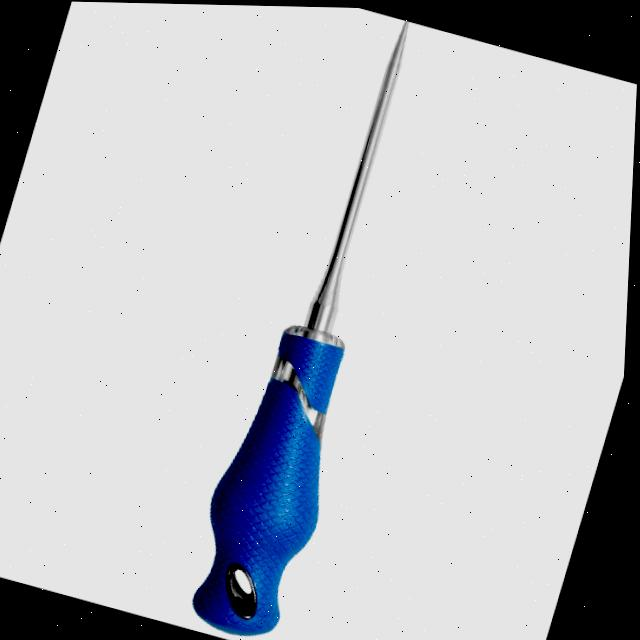ice pick: (180, 4, 461, 640)
